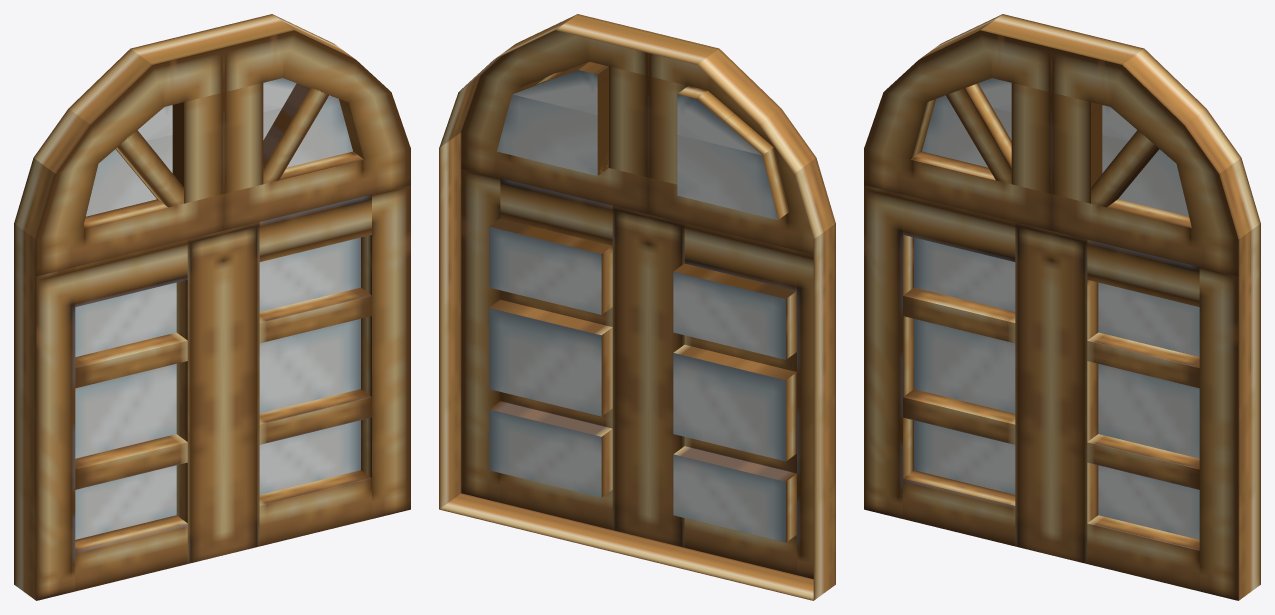
The model's file is Inside_Poly_Window_03.obj.
3 views of the same model, side by side, from view 1: azimuth 30°, elevation 25°; view 2: azimuth 150°, elevation 25°; view 3: azimuth 330°, elevation 25° (orthographic).
Visible parts, largest first — view 1: Cube.001_Cube; view 2: Cube.001_Cube; view 3: Cube.001_Cube.
Boxes of the visible parts, left/top/right/bottom form: Cube.001_Cube: left=14, top=14, right=410, bottom=600; Cube.001_Cube: left=439, top=14, right=835, bottom=600; Cube.001_Cube: left=864, top=14, right=1260, bottom=600.
Size of the model in its own units: 0.965 by 1.25 by 0.0997.
1 material, 1 textured.
